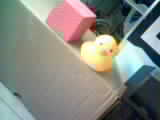duck: (74, 30, 121, 83)
